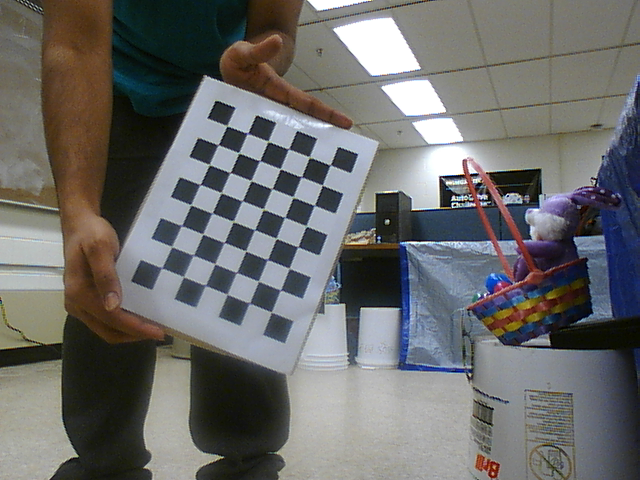bunny: (449, 150, 605, 349)
